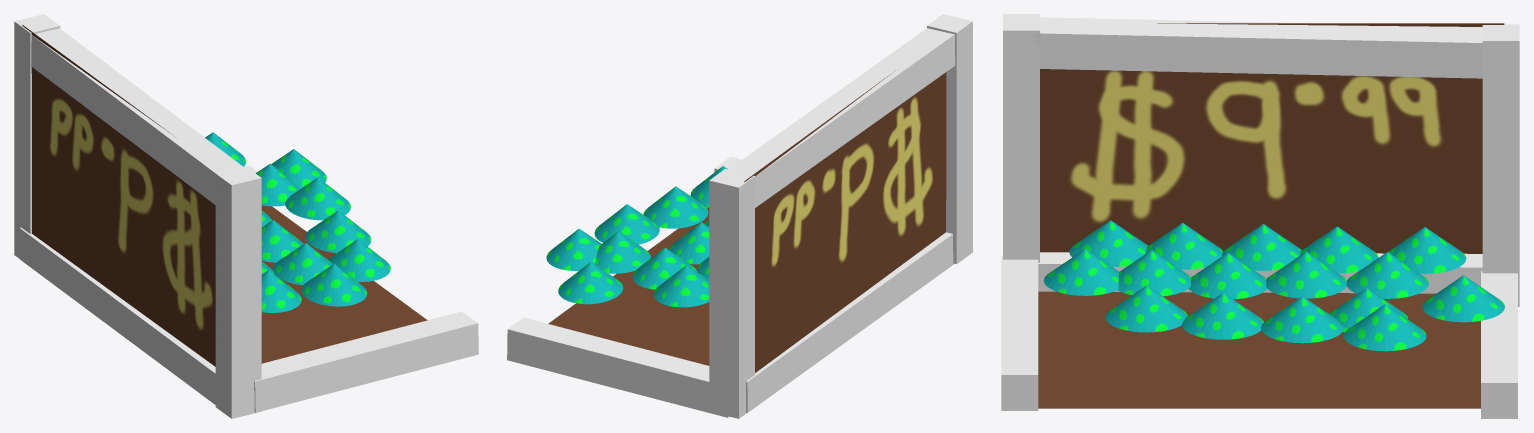
Rendered from ObjectForSTalls4_TJ.glb.
3 views of the same model, side by side, from view 1: azimuth 30°, elevation 25°; view 2: azimuth 150°, elevation 25°; view 3: azimuth 270°, elevation 25° (orthographic). The views are drawn at different scales.
Parts seen in each view (by area): view 1: Plane.001, Cube.004, Cube.006, Cube.001, Plane, Cube.002, Cube.003, Cone.009, Cone.012, Cone.011, Cone.010, Cone.008 (+5 smaller); view 2: Plane.001, Cube.006, Cube.003, Cube.005, Plane, Cube.002, Cube.004, Cone.015, Cone.011, Cone.004, Cone.014, Cone.012 (+4 smaller); view 3: Plane.001, Plane, Cube.006, Cube.003, Cube.004, Cube.001, Cube.005, Cone.015, Cone.013, Cone.012, Cone.006, Cone.011 (+12 smaller).
Boxes of the visible parts, x1,y1,x2,y2 form: Plane.001: [22, 25, 215, 366]; Cube.004: [215, 166, 261, 418]; Cube.006: [31, 28, 242, 204]; Cube.001: [254, 311, 478, 412]; Plane: [261, 205, 427, 363]; Cube.002: [19, 227, 215, 404]; Cube.003: [14, 14, 60, 258]; Cone.009: [301, 263, 367, 306]; Cone.012: [285, 177, 350, 220]; Cone.011: [305, 210, 371, 252]; Cone.010: [328, 239, 390, 281]; Cone.008: [273, 243, 333, 285]; Plane.001: [744, 70, 946, 372]; Cube.006: [728, 28, 955, 207]; Cube.003: [709, 169, 754, 418]; Cube.005: [507, 317, 729, 417]; Plane: [548, 207, 709, 365]; Cube.002: [746, 232, 954, 412]; Cube.004: [927, 14, 972, 263]; Cone.015: [558, 262, 623, 304]; Cone.011: [643, 186, 708, 228]; Cone.004: [653, 265, 709, 307]; Cone.014: [595, 231, 650, 273]; Cone.012: [594, 204, 659, 244]; Plane.001: [1040, 23, 1504, 253]; Plane: [1038, 291, 1480, 408]; Cube.006: [1031, 17, 1482, 78]; Cube.003: [1482, 24, 1519, 306]; Cube.004: [1003, 14, 1039, 262]; Cube.001: [1001, 255, 1038, 410]; Cube.005: [1481, 271, 1517, 418]; Cone.015: [1422, 275, 1504, 322]; Cone.013: [1344, 304, 1426, 351]; Cone.012: [1261, 296, 1343, 343]; Cone.006: [1266, 251, 1346, 298]; Cone.011: [1182, 292, 1263, 339].
Size of the model in its own units: 2.31 by 2.06 by 3.53.
5 materials, 3 textured.
